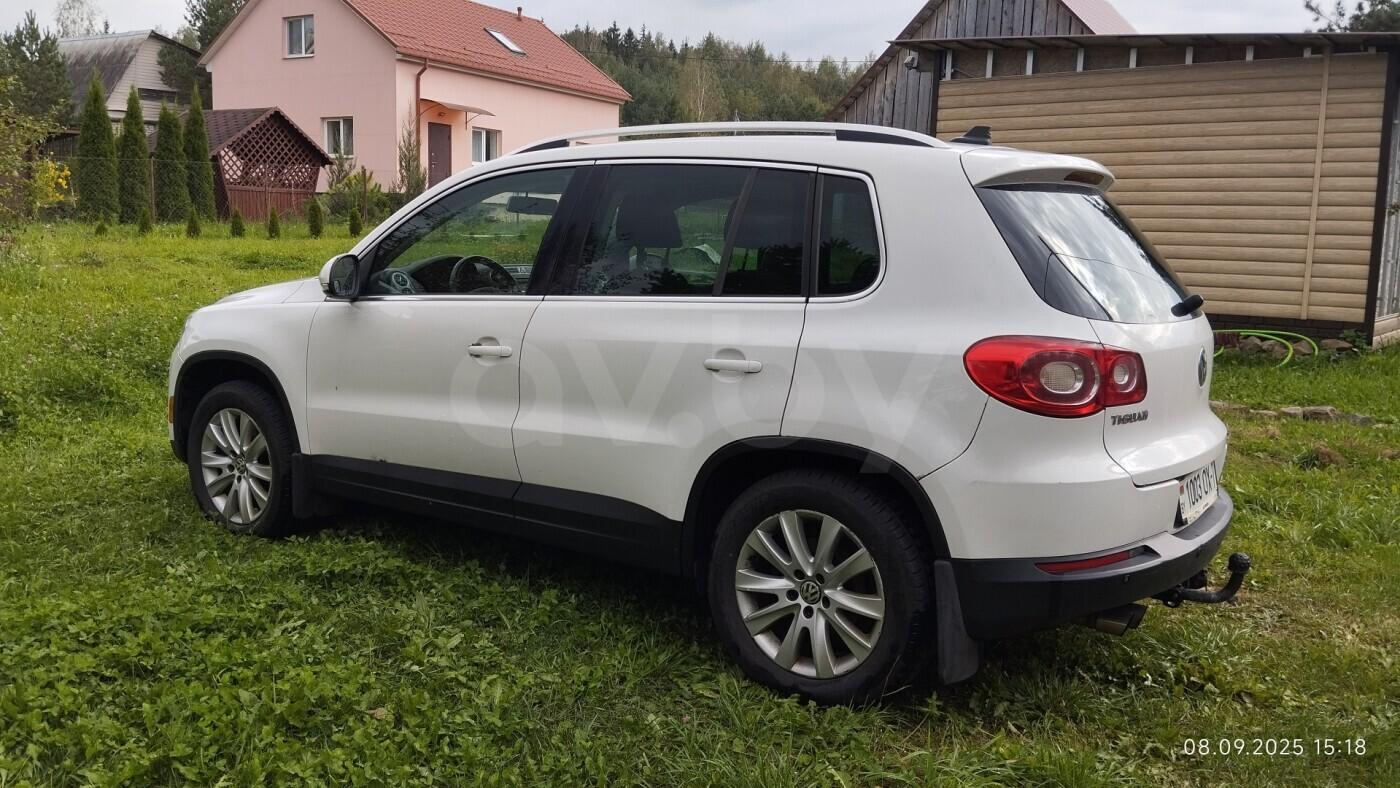Tiguan_2007-2011: (161, 127, 1232, 697)
